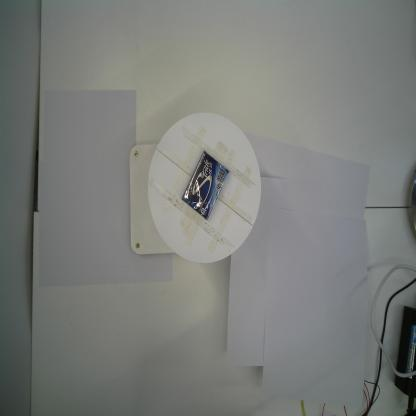Gum: (182, 149, 230, 221)
